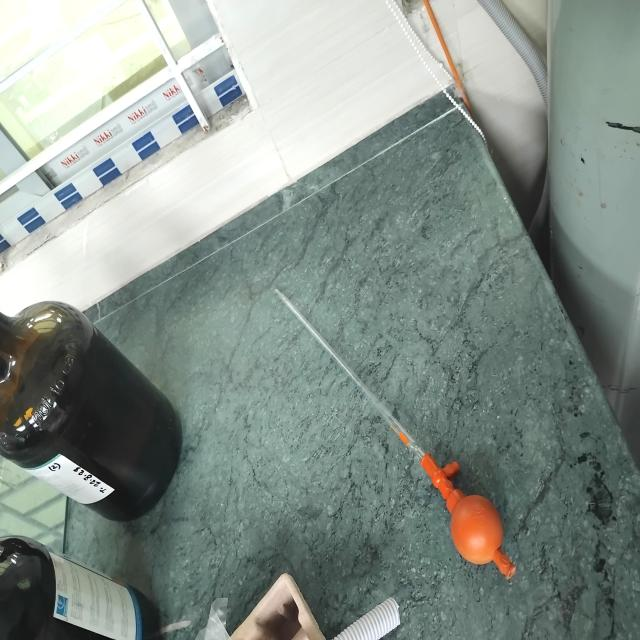Volumetric_Pipet: (250, 266, 528, 582)
